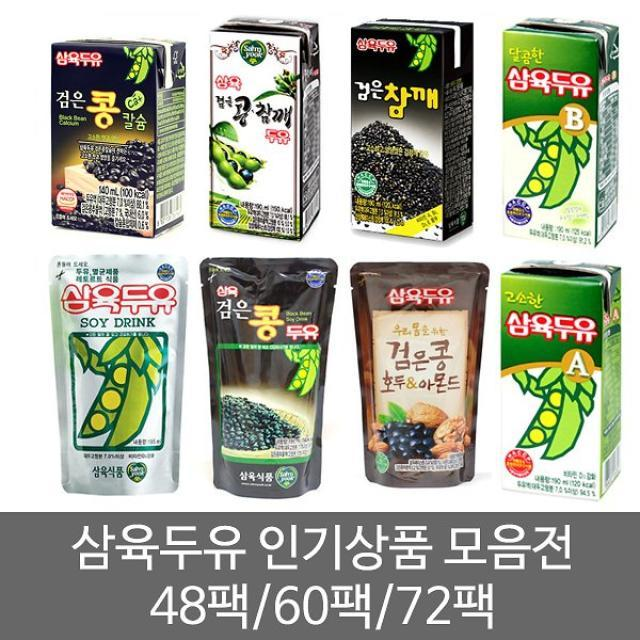Tetra: (35, 20, 192, 249), (487, 13, 630, 250), (339, 13, 481, 251), (490, 263, 629, 501), (203, 11, 328, 236)
